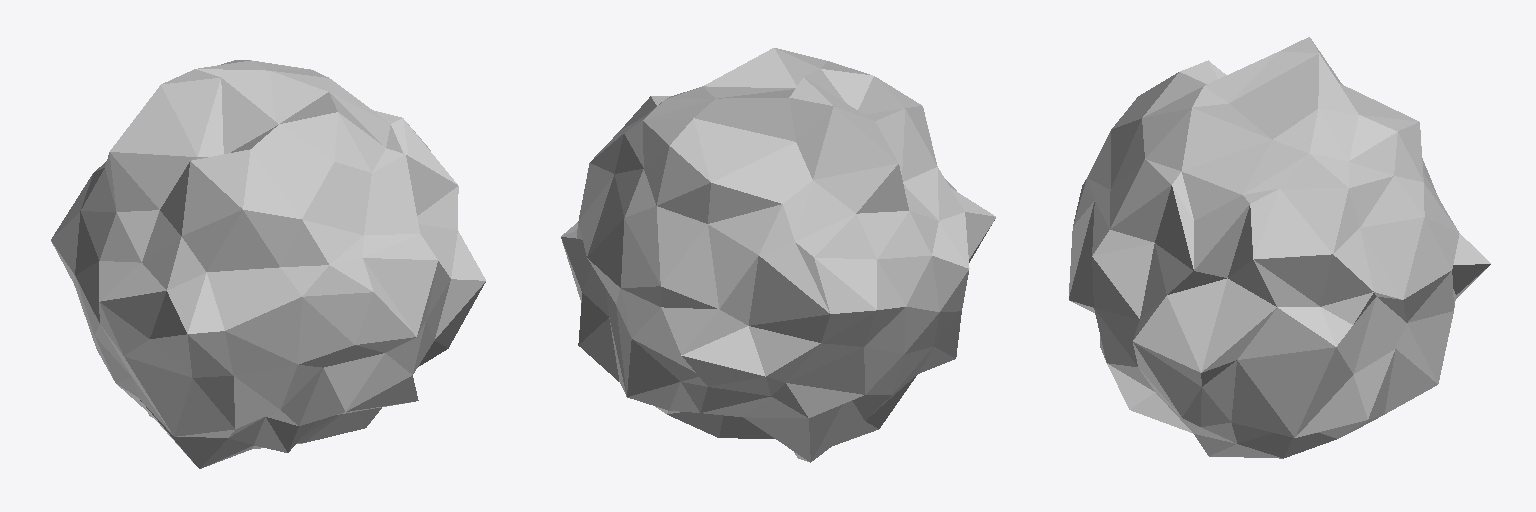
The model's file is fire_000029.obj.
The picture shows the model from 3 angles: view 1: azimuth 30°, elevation 25°; view 2: azimuth 150°, elevation 25°; view 3: azimuth 270°, elevation 25°; orthographic projection.
Visible parts, largest first — view 1: Icosphere; view 2: Icosphere; view 3: Icosphere.
Boxes of the visible parts, box(x1,y1,x2,y2) form: Icosphere: box(51, 60, 485, 468); Icosphere: box(561, 48, 995, 462); Icosphere: box(1069, 37, 1490, 458).
Bounding box in the file's own units: 1.38 × 1.38 × 1.41.